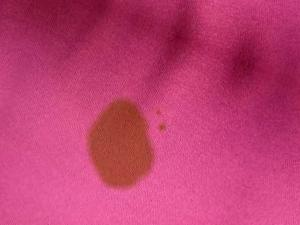stain: (87, 97, 158, 187), (154, 107, 168, 118), (156, 124, 169, 134)
